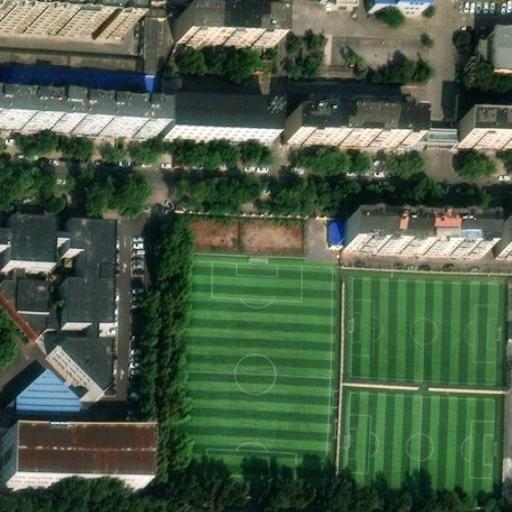building: (0, 92, 160, 128), (0, 358, 84, 420), (344, 207, 489, 239), (160, 99, 270, 139), (0, 0, 130, 31), (297, 108, 421, 138), (190, 0, 294, 24), (137, 5, 163, 79), (466, 115, 512, 141), (493, 21, 512, 64), (329, 215, 344, 239)
